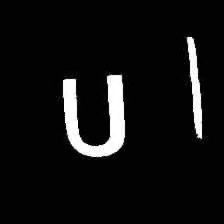LTR_U: (55, 70, 135, 162)
